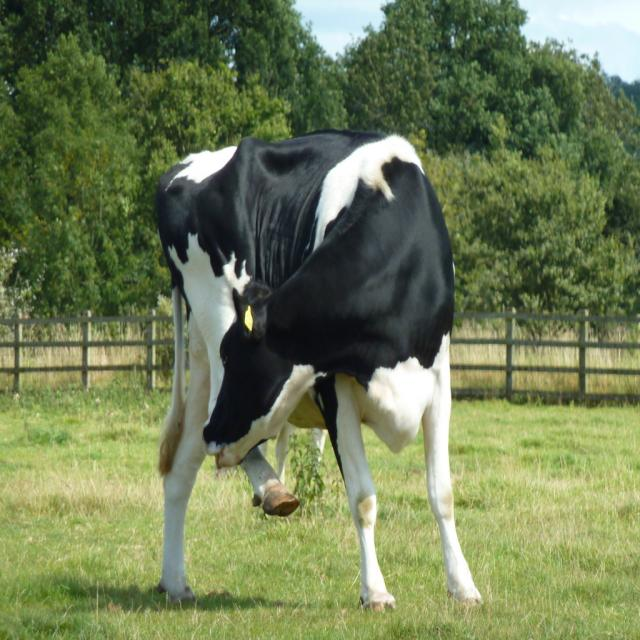Cattle: (156, 129, 484, 612)
